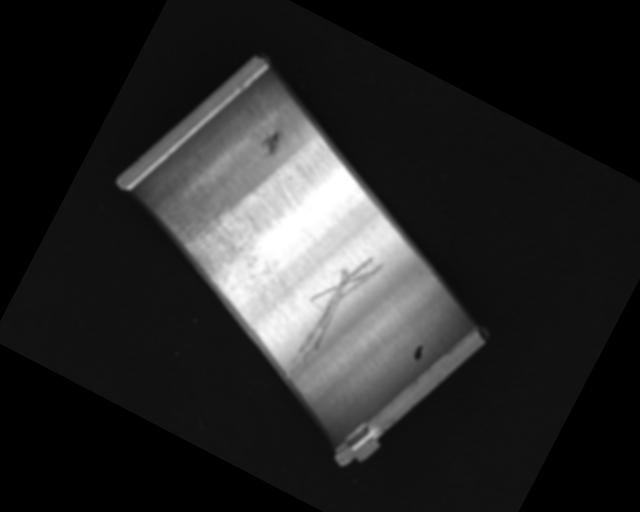blot: (411, 341, 428, 362)
bruise: (256, 124, 286, 158)
nick: (272, 239, 386, 395)
scratch: (149, 181, 302, 319)
